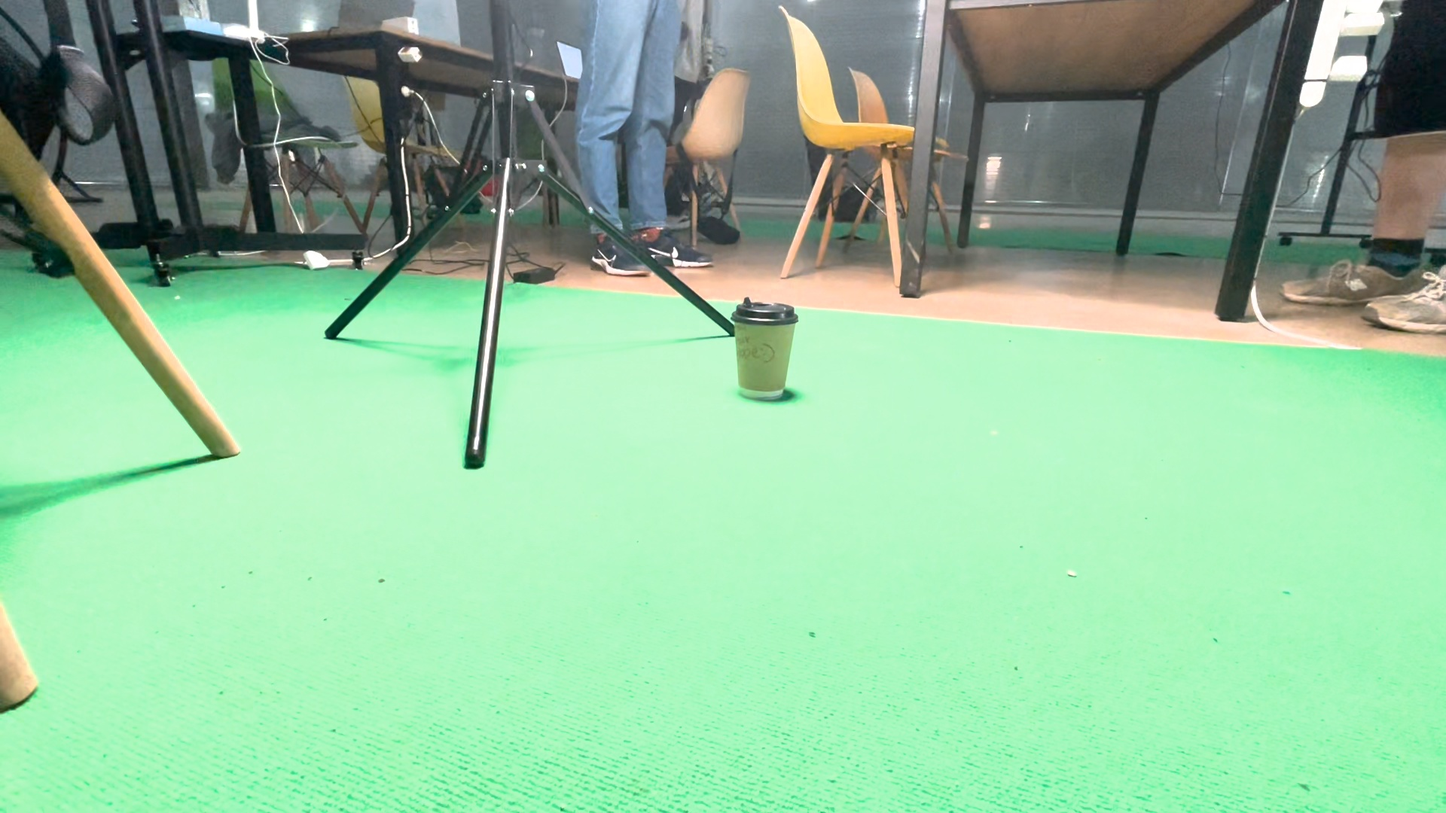cup: (686, 431, 806, 596)
